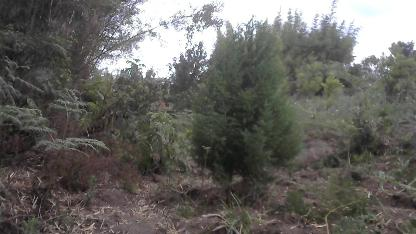tree: (185, 21, 314, 201)
